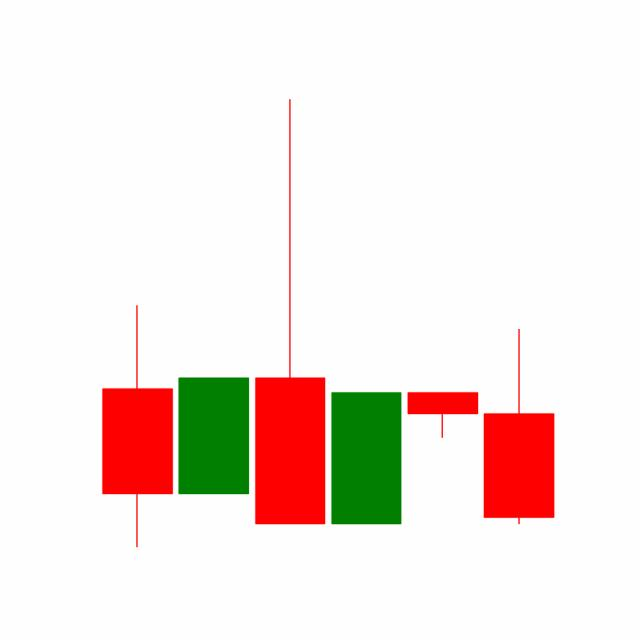Hanging Man: (403, 391, 481, 438)
